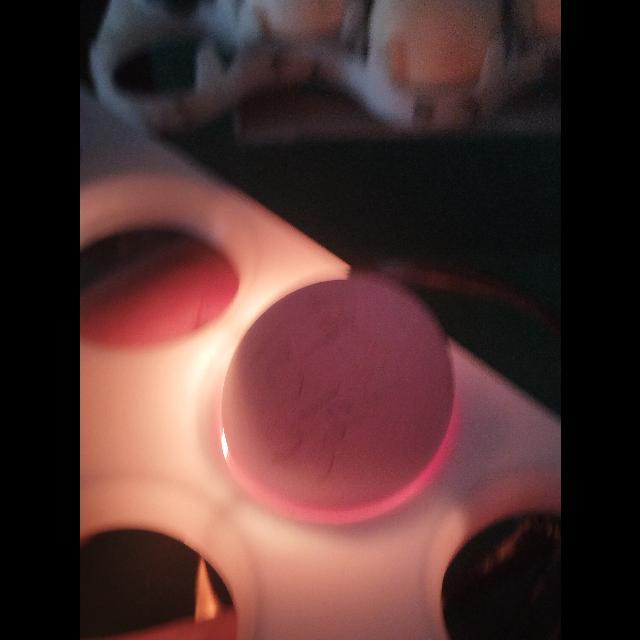Fertile: (214, 274, 456, 514)
